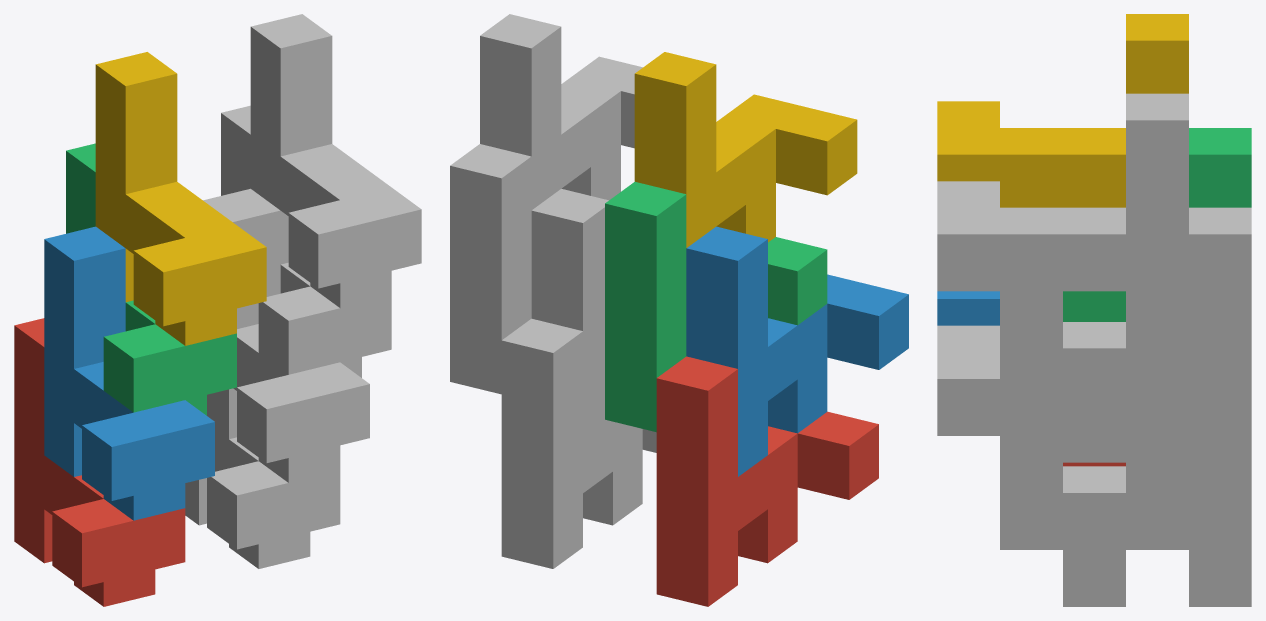
Rendered from tiling.obj.
3 renders of one model, left to right at view 1: azimuth 30°, elevation 25°; view 2: azimuth 150°, elevation 25°; view 3: azimuth 270°, elevation 25°, orthographic. The views are drawn at different scales.
Visible parts, largest first — view 1: copy_1_domain_4, copy_1_domain_8, copy_1_domain_2, copy_1_domain_1, copy_1_domain_6, copy_1_domain_5, copy_1_domain_3, copy_1_domain_7; view 2: copy_1_domain_1, copy_1_domain_2, copy_1_domain_4, copy_1_domain_5, copy_1_domain_3, copy_1_domain_8, copy_1_domain_7, copy_1_domain_6; view 3: copy_1_domain_8, copy_1_domain_7, copy_1_domain_5, copy_1_domain_4, copy_1_domain_6, copy_1_domain_3, copy_1_domain_2.
Boxes of the visible parts, x1,y1,x2,y2 form: copy_1_domain_4: (95,52,266,345); copy_1_domain_8: (250,14,421,307); copy_1_domain_2: (44,226,214,520); copy_1_domain_1: (14,318,185,606); copy_1_domain_6: (203,188,369,482); copy_1_domain_5: (185,429,340,568); copy_1_domain_3: (66,143,236,415); copy_1_domain_7: (221,105,391,377); copy_1_domain_1: (656,356,878,606); copy_1_domain_2: (686,226,908,476); copy_1_domain_4: (634,52,857,247); copy_1_domain_5: (501,318,656,568); copy_1_domain_3: (605,182,827,432); copy_1_domain_8: (480,14,642,209); copy_1_domain_7: (450,144,531,394); copy_1_domain_6: (531,188,608,438); copy_1_domain_8: (937,93,1188,348); copy_1_domain_7: (1000,207,1251,462); copy_1_domain_5: (1000,462,1251,606); copy_1_domain_4: (937,14,1188,207); copy_1_domain_6: (937,325,1188,492); copy_1_domain_3: (1063,128,1251,321); copy_1_domain_2: (937,291,999,325).
Size of the model in its own units: 6 by 9 by 5.
